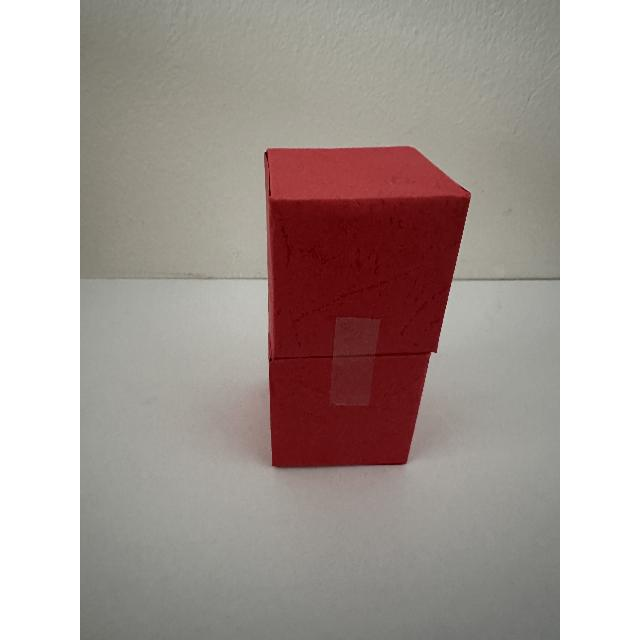red_cube: (250, 102, 476, 504)
